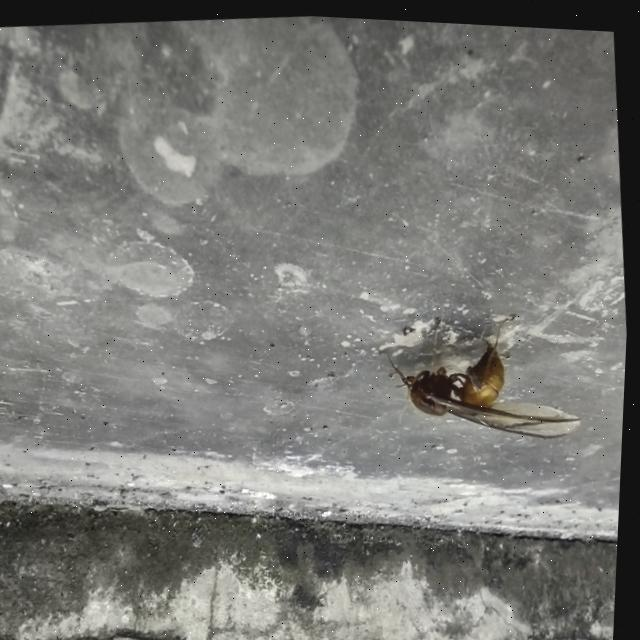Alive-Male-Alate: (375, 295, 590, 449)
